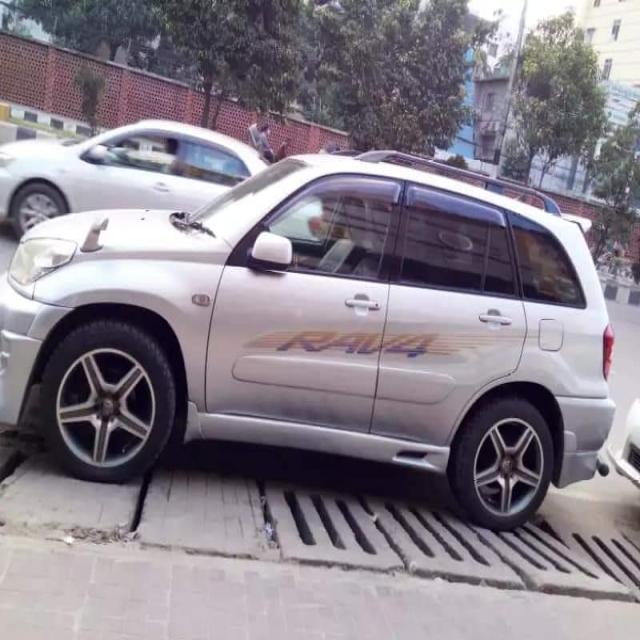silver: (11, 164, 631, 509)
white: (10, 78, 253, 214)
